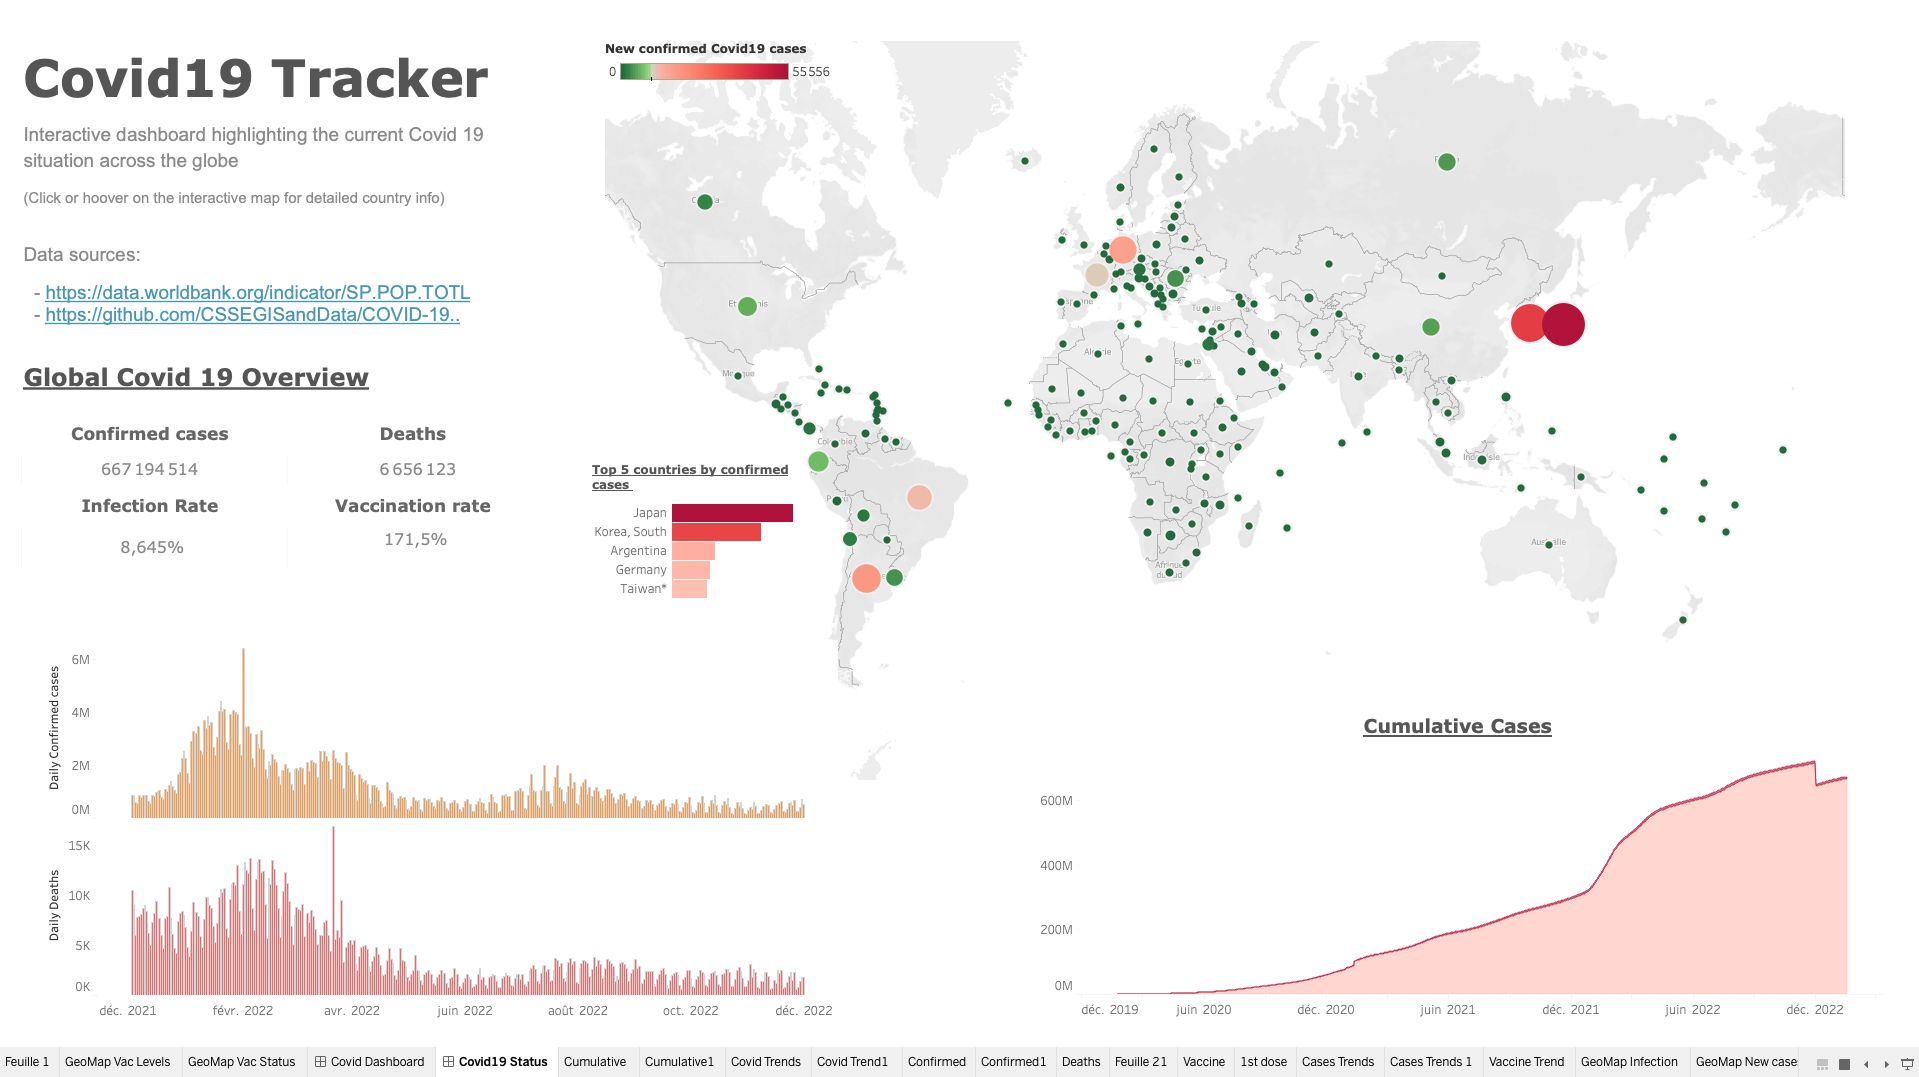

This screenshot's page, from the dashboard's own definition file:
{"tool":"tableau","page":{"name":"Covid19 Status ","canvas":[1900,1050],"ordinal":0},"visuals":[{"type":"title","box":[8,8,1884,32]},{"type":"text","box":[8,40,532,179]},{"type":"worksheet","title":"GeoMap New cases","mark":"Automatic","cols":["date (Vaccine)"],"box":[540,40,1352,747]},{"type":"legend","title":"GeoMap New cases","param":"[federated.0b1zsqv1sy6u9s127zj8q0cv0n31].[diff:sum:confirmed (Vaccine):qk:1]","box":[596,44,230,76]},{"type":"text","box":[8,219,532,122]},{"type":"text","box":[8,341,532,77]},{"type":"worksheet","title":"Confirmed1","mark":"Text","cols":["date"],"box":[8,418,266,73]},{"type":"worksheet","title":"Deaths","mark":"Text","cols":["date"],"box":[274,418,266,73]},{"type":"worksheet","title":"Covid Trend1 ","mark":"Bar","rows":["Country/Region"],"cols":["date"],"box":[579,461,273,169]},{"type":"worksheet","title":"Global Vac Ratio (2)","mark":"Text","cols":["date (Vaccine)"],"box":[8,491,266,107]},{"type":"worksheet","title":"Global Infection Ratio","mark":"Text","cols":["date (Vaccine)"],"box":[274,491,266,90]},{"type":"worksheet","title":"Cases Trends 1","mark":"Bar","cols":["date"],"box":[29,628,800,400]},{"type":"worksheet","title":"Cumulative1","mark":"Area","cols":["date"],"box":[1024,713,850,314]}]}

Visuals, with their boxes on the page's 1900x1050 design canvas (x1, y1, x2, y2). These are canvas units, not pixel positions in the 1919x1077 screenshot, which may show the page scaled, cropped or inside an application window:
title: region(8, 8, 1892, 40)
text: region(8, 40, 540, 219)
"GeoMap New cases" worksheet: region(540, 40, 1892, 787)
"GeoMap New cases" legend: region(596, 44, 826, 120)
text: region(8, 219, 540, 341)
text: region(8, 341, 540, 418)
"Confirmed1" worksheet (Text marks): region(8, 418, 274, 491)
"Deaths" worksheet (Text marks): region(274, 418, 540, 491)
"Covid Trend1 " worksheet (Bar marks): region(579, 461, 852, 630)
"Global Vac Ratio (2)" worksheet (Text marks): region(8, 491, 274, 598)
"Global Infection Ratio" worksheet (Text marks): region(274, 491, 540, 581)
"Cases Trends 1" worksheet (Bar marks): region(29, 628, 829, 1028)
"Cumulative1" worksheet (Area marks): region(1024, 713, 1874, 1027)
